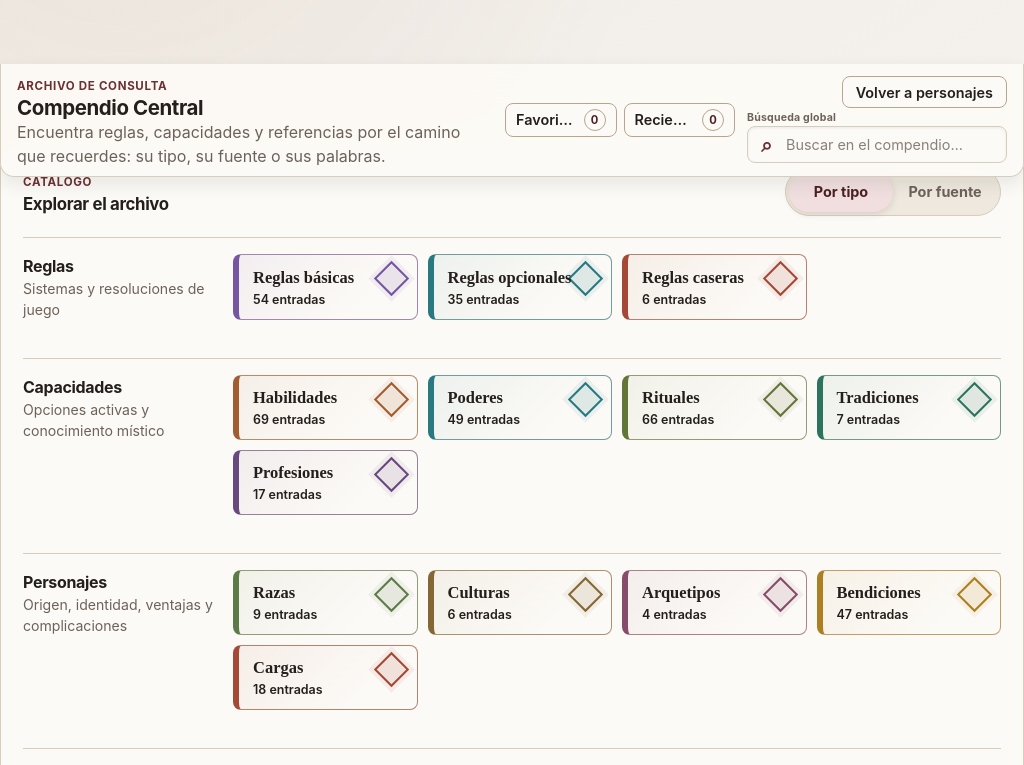
Scenario: CompendiumView library › starts on the section cover and switches between type and source catalogues
Check: the search field labelled "Búsqueda global" is shown, box [747,126,1007,163]
Click the button "Favoritos 0" at (561, 120), box [505,103,616,137]
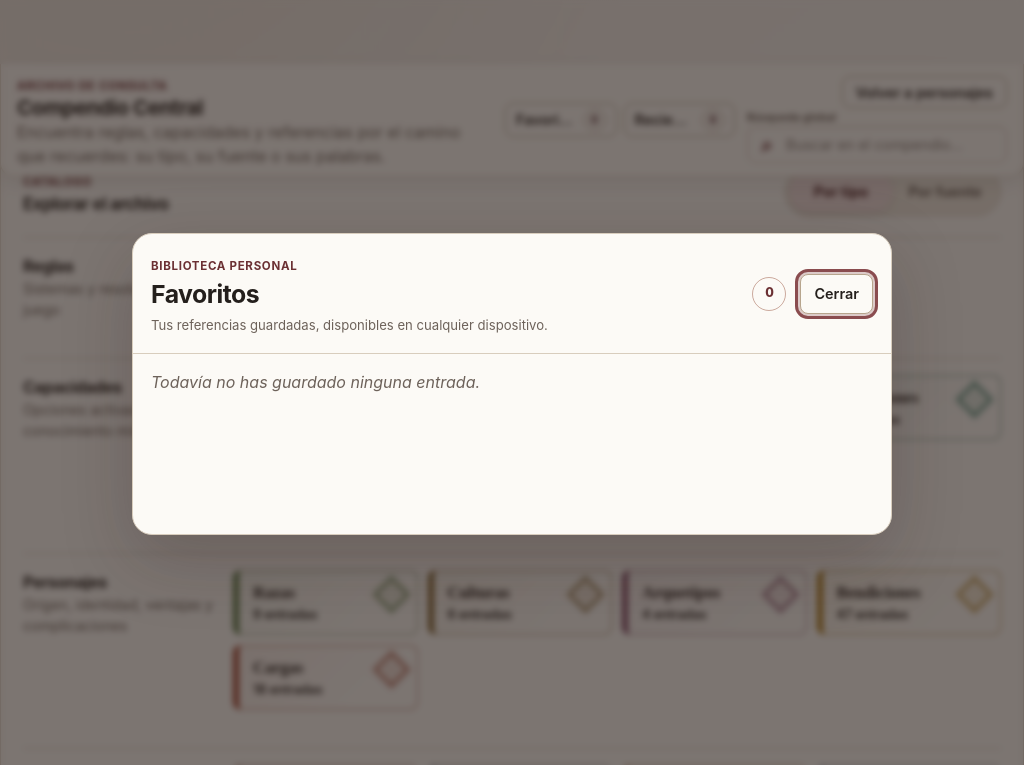
Check: the text "Todavía no has guardado ninguna entrada." is shown, box [151,372,480,392]
Click the button "Cerrar" at (837, 294), box [800,274,873,314]
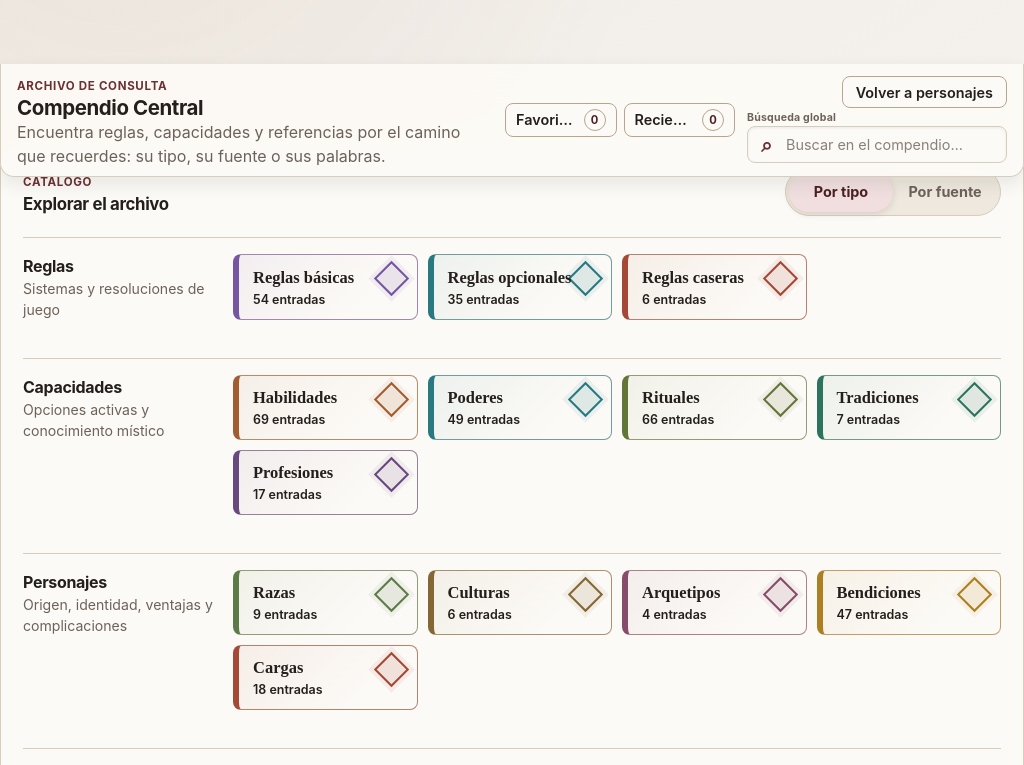
Check: the button "Recientes 0" is shown, box [624,103,735,137]
Check: the heading "Explorar el archivo" is shown, box [23,192,169,217]
Click the tab "Por fuente" at (945, 192), box [893,172,997,212]
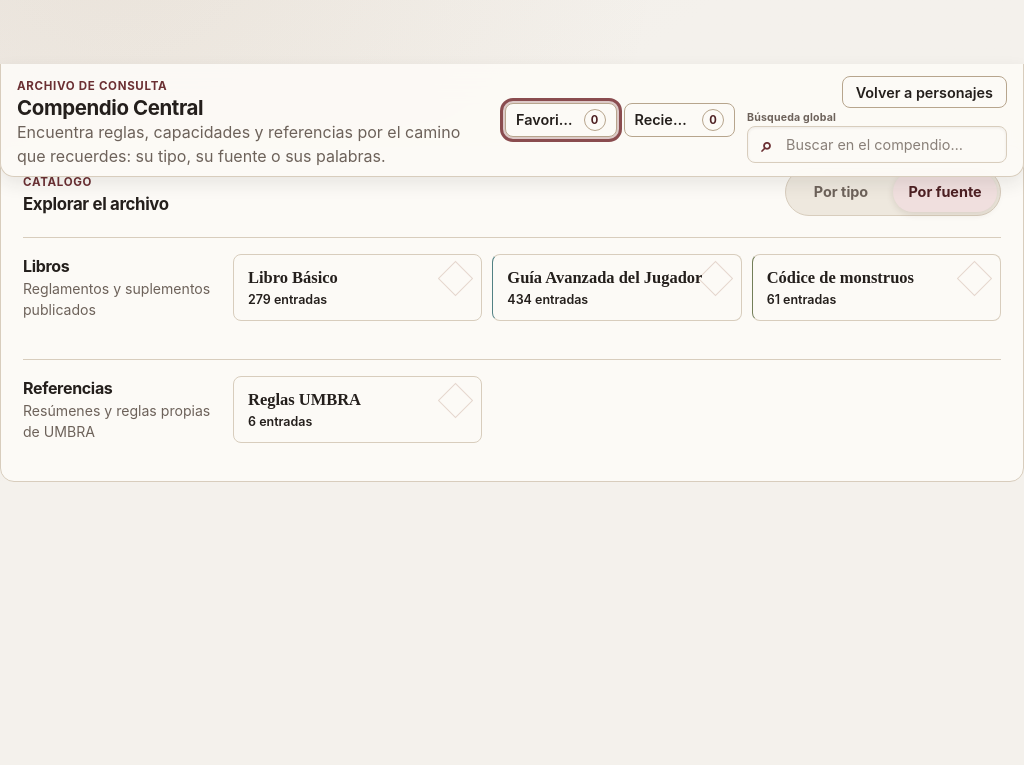
Check: the heading "Libros" is shown, box [23,256,70,276]
Check: the heading "Referencias" is shown, box [23,378,112,398]
Check: the button "Libro Básico 279 entradas" is shown, box [233,254,482,321]
